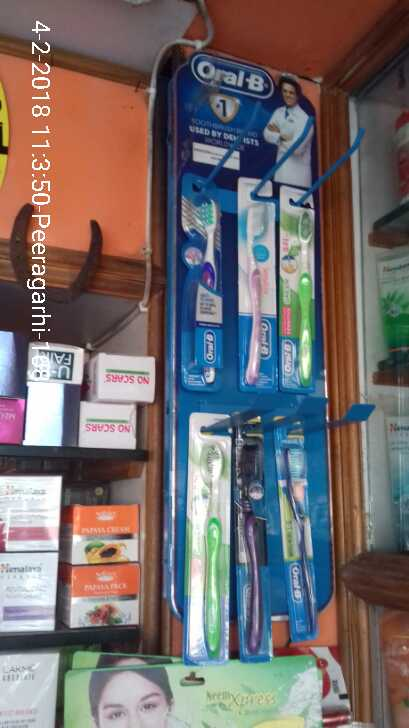oralb: (180, 195, 226, 389), (276, 442, 319, 641), (194, 440, 231, 658), (282, 209, 324, 380), (240, 201, 272, 389)
